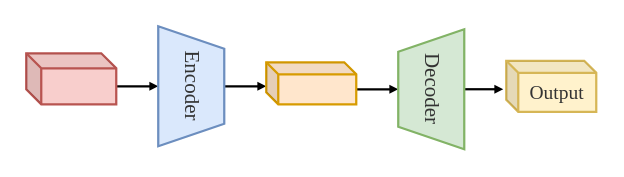
This 624x177 diagram has some shape labels left out. The shapes that lost their labels are listed below. From the top down, each one's centre as x and y in pixels, then its label:
pixel 70 78: Input
pixel 310 82: Latent z
